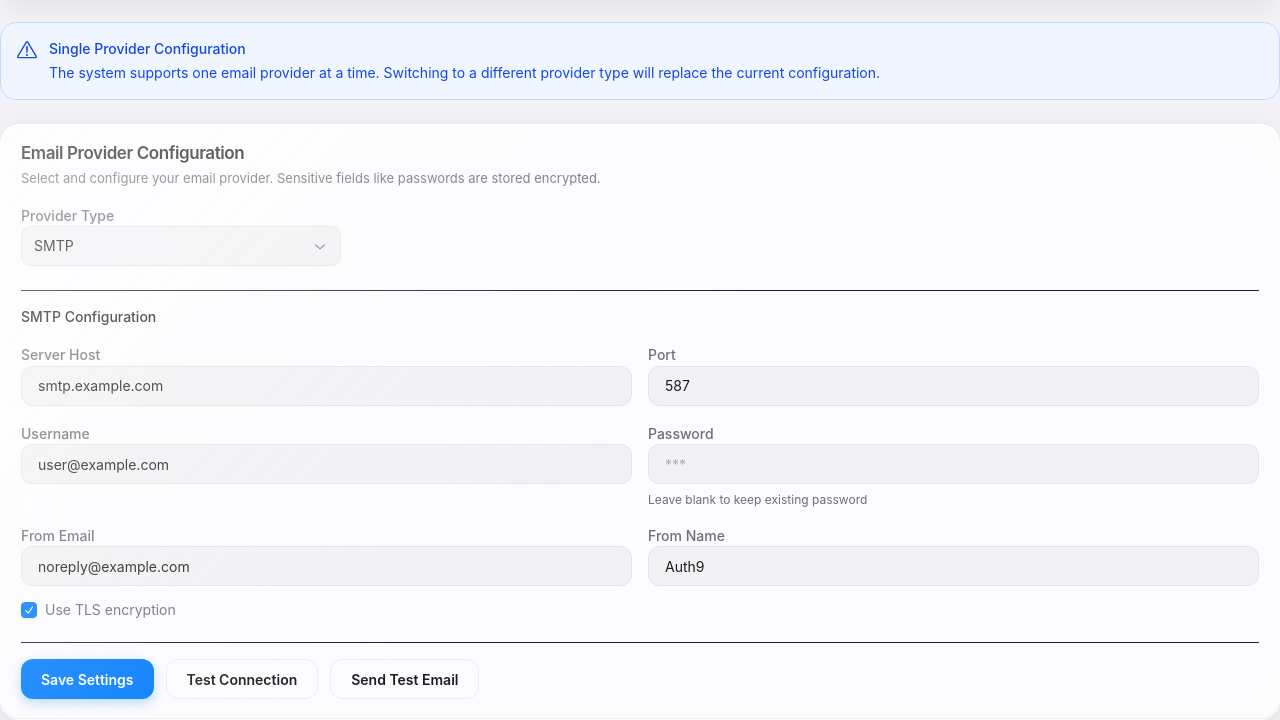
it: Email Settings Page › closes test email dialog when clicking Cancel
(page scrolled)
What coordinates should you click on to do the following:
click the button "Send Test Email"
I would click on:
 (405, 679)
Its box is [330,659,480,699].
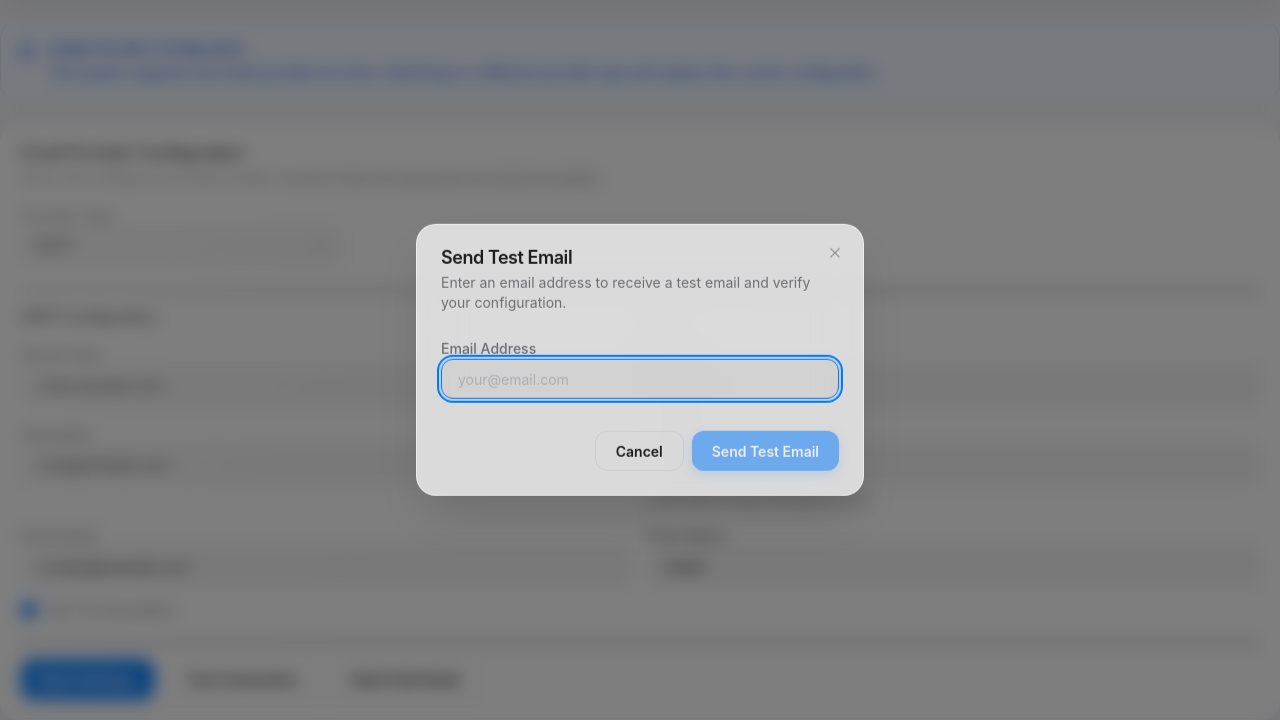
Check: the field labelled "Email Address" is shown, box [441,359,839,399]
# Click Cancel button in dialog
What coordinates should you click on to do the following:
click the button "Cancel"
I would click on:
 (639, 451)
Its box is [595,431,684,471].
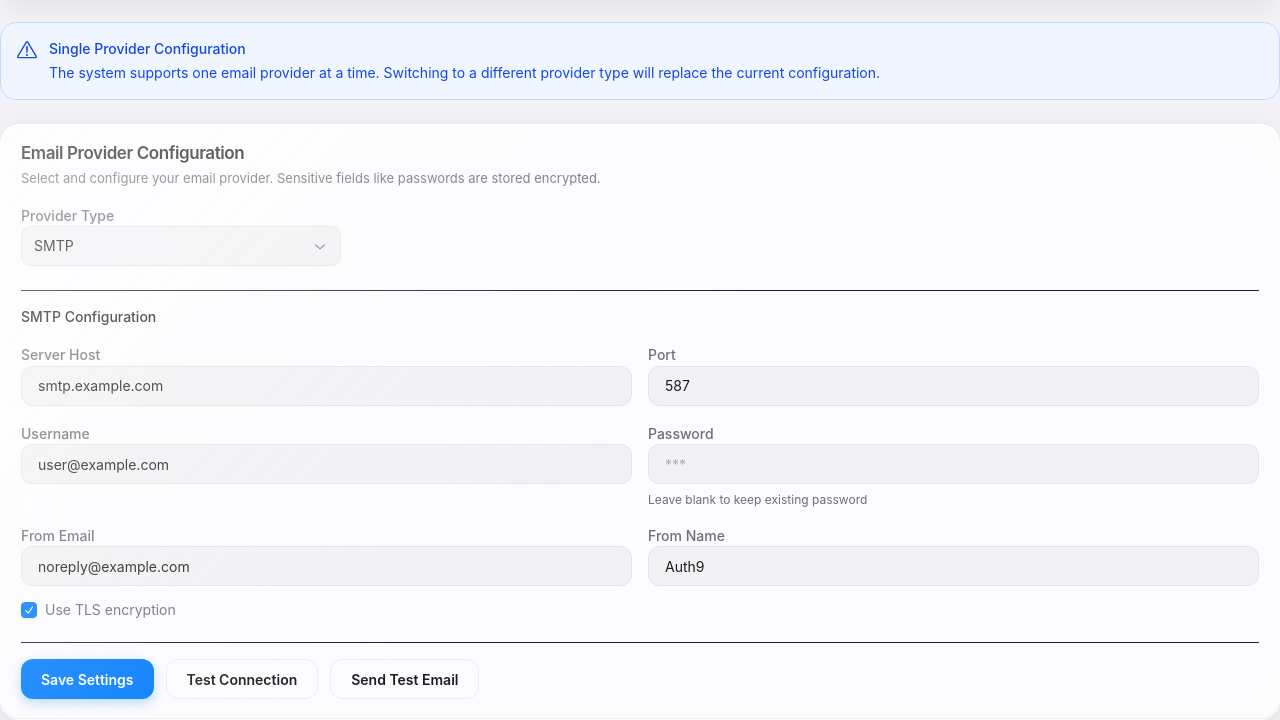
Check: the text labelled "email address" is gone
